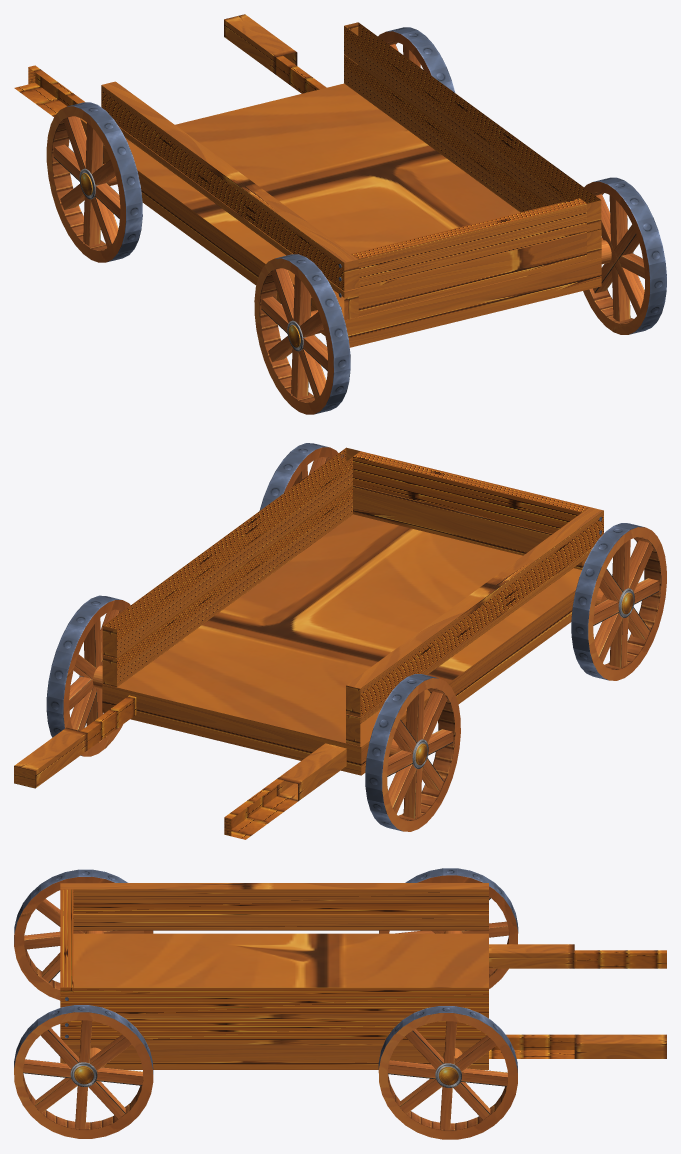
The model's file is Telega_materials_fixed.fbx.
The picture shows the model from 3 angles, top to bottom: view 1: azimuth 30°, elevation 25°; view 2: azimuth 150°, elevation 25°; view 3: azimuth 270°, elevation 25°; orthographic projection. The views are drawn at different scales.
Parts seen in each view (by area): view 1: Cube.001, Cube.019, Cube.015, Cube.004, Cube.021, Cube.003, Cube.006, Cube.007, Cube.002, Cube, Cube.012, Cube.005 (+1 smaller); view 2: Cube.001, Cube.019, Cube.015, Cube.004, Cube.021, Cube.006, Cube.002, Cube.012, Cube.007, Cube.008, Cube, Cube.003 (+1 smaller); view 3: Cube.001, Cube.004, Cube.021, Cube.003, Cube.012, Cube.002, Cube.005, Cube.015, Cube, Cube.008, Cube.019, Cube.006.
Part boxes in pixels (bbox=[...]): Cube.001: bbox=[103, 83, 601, 347]; Cube.019: bbox=[46, 102, 142, 262]; Cube.015: bbox=[254, 254, 350, 414]; Cube.004: bbox=[101, 81, 358, 291]; Cube.021: bbox=[344, 22, 601, 231]; Cube.003: bbox=[583, 177, 666, 334]; Cube.006: bbox=[351, 198, 586, 287]; Cube.007: bbox=[358, 232, 586, 316]; Cube.002: bbox=[344, 54, 601, 260]; Cube: bbox=[224, 14, 326, 93]; Cube.012: bbox=[378, 27, 455, 92]; Cube.005: bbox=[118, 126, 358, 320]; Cube.001: bbox=[102, 514, 599, 775]; Cube.019: bbox=[365, 674, 460, 831]; Cube.015: bbox=[571, 523, 666, 680]; Cube.004: bbox=[346, 507, 603, 717]; Cube.021: bbox=[102, 447, 360, 657]; Cube.006: bbox=[353, 451, 589, 533]; Cube.002: bbox=[102, 485, 352, 686]; Cube.012: bbox=[46, 595, 130, 756]; Cube.007: bbox=[353, 485, 586, 569]; Cube.008: bbox=[224, 743, 346, 839]; Cube: bbox=[14, 695, 136, 788]; Cube.003: bbox=[259, 443, 338, 510]; Cube.001: bbox=[60, 933, 488, 1069]; Cube.004: bbox=[60, 883, 488, 914]; Cube.021: bbox=[60, 987, 488, 1018]; Cube.003: bbox=[14, 1005, 153, 1138]; Cube.012: bbox=[378, 1006, 517, 1139]; Cube.002: bbox=[60, 1019, 486, 1044]; Cube.005: bbox=[73, 914, 488, 930]; Cube.015: bbox=[14, 869, 153, 1000]; Cube: bbox=[489, 1034, 666, 1058]; Cube.008: bbox=[489, 944, 666, 968]; Cube.019: bbox=[379, 868, 518, 988]; Cube.006: bbox=[60, 889, 73, 993].
Size of the model in its own units: 698 by 291 by 1335.
15 materials, 15 textured.
